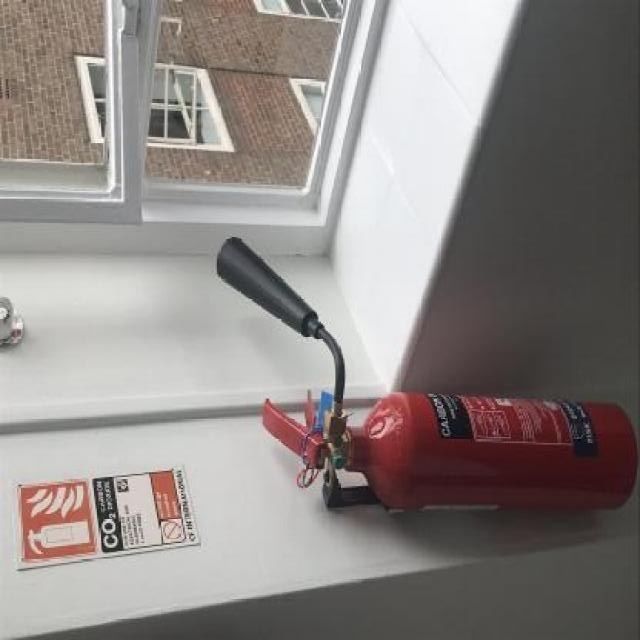fire extinguisher: (212, 227, 640, 531)
